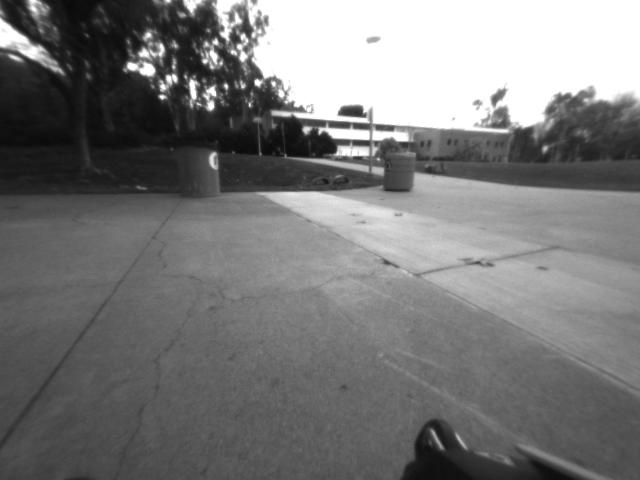trashcan: (171, 140, 225, 201), (381, 151, 416, 193)
